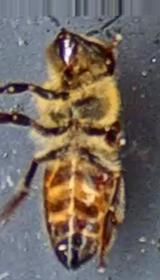varroa_mite: (78, 154, 119, 196)
